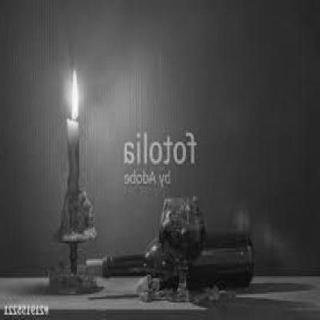Fire: (60, 62, 84, 130)
